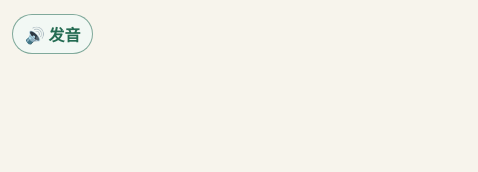
PronounceButton › keeps the page usable and explains unsupported speech
This screenshot has width=478, height=172.
Click the button with aria-label "播放 passage 发音": (53, 34) [12,14,94,54]
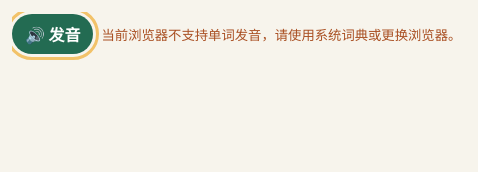
Check: the message shows "当前浏览器不支持单词发音", box [102,26,461,42]
